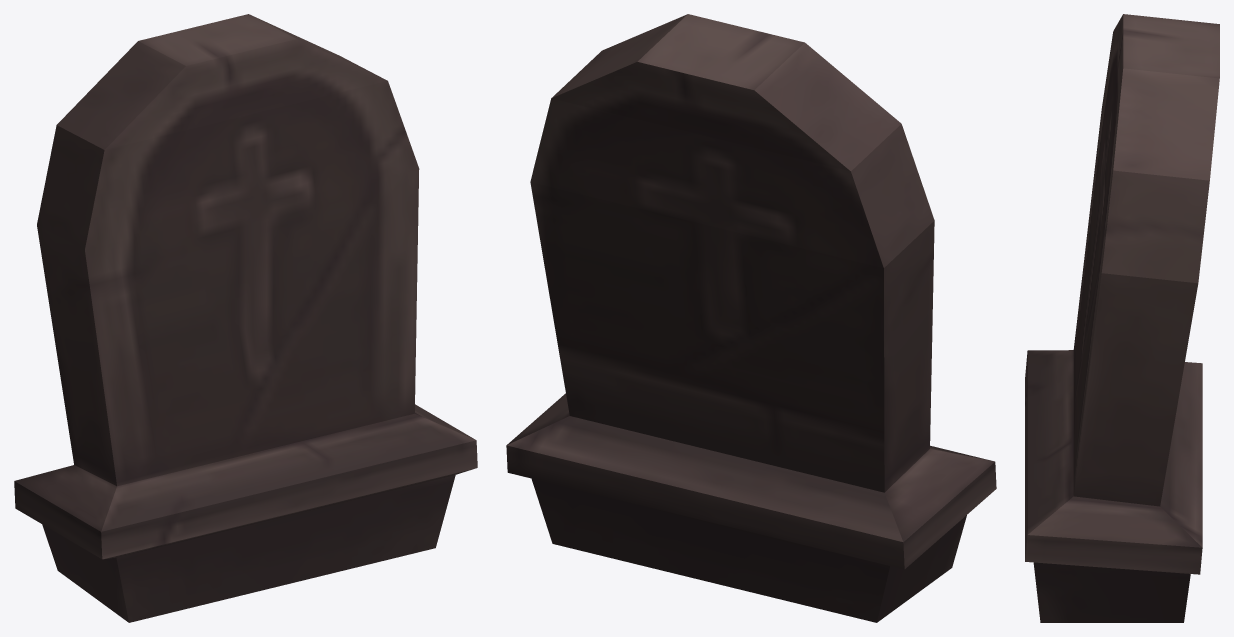
The model's file is grave_2.fbx.
3 views of the same model, side by side, from view 1: azimuth 30°, elevation 25°; view 2: azimuth 150°, elevation 25°; view 3: azimuth 270°, elevation 25° (orthographic). The views are drawn at different scales.
Parts seen in each view (by area): view 1: grave_2; view 2: grave_2; view 3: grave_2.
Part boxes in pixels (left/top/right/bottom): grave_2: left=14, top=14, right=477, bottom=622; grave_2: left=506, top=14, right=996, bottom=622; grave_2: left=1025, top=14, right=1219, bottom=622.
Bounding box in the file's own units: 0.7538 × 0.9648 × 0.3362.
